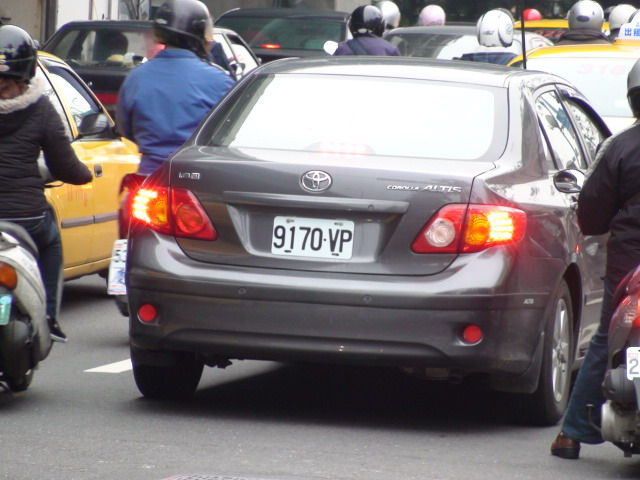plate: (272, 212, 356, 260)
